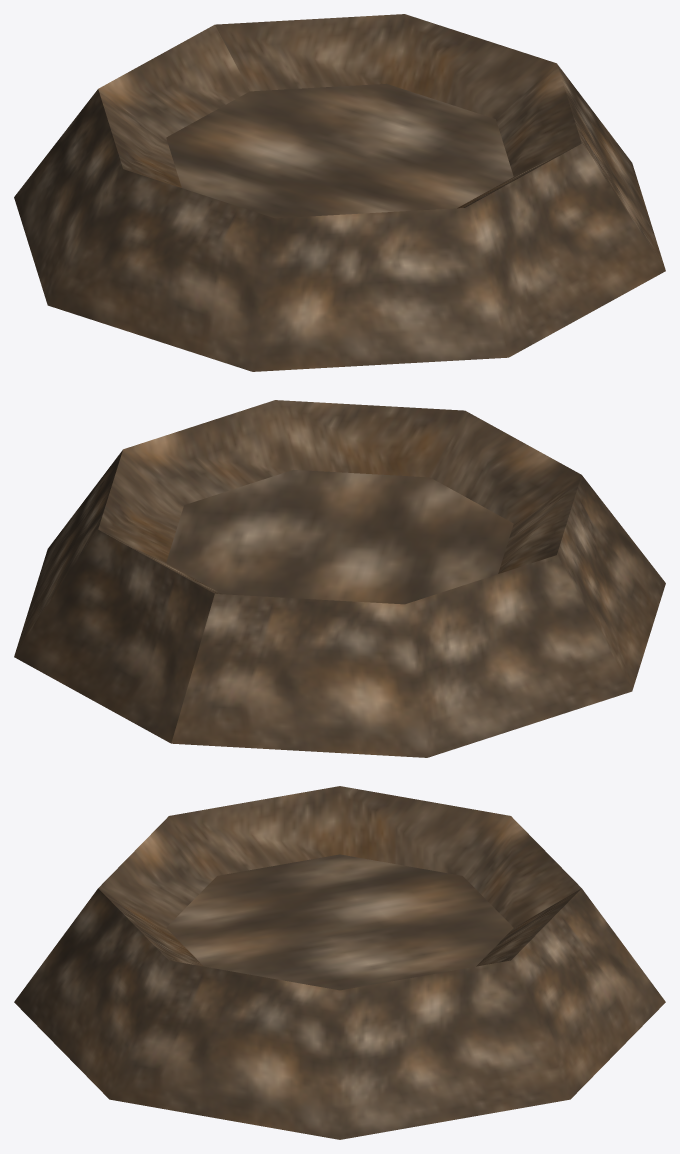
Rendered from mole_hole.fbx.
3 renders of one model, top to bottom at view 1: azimuth 30°, elevation 25°; view 2: azimuth 150°, elevation 25°; view 3: azimuth 270°, elevation 25°, orthographic. The views are drawn at different scales.
Visible parts, largest first — view 1: wall, bottom; view 2: wall, bottom; view 3: wall, bottom.
Part boxes in pixels (x1=…): wall: x1=14, y1=14, x2=665, y2=371; bottom: x1=166, y1=83, x2=513, y2=218; wall: x1=14, y1=400, x2=665, y2=757; bottom: x1=166, y1=469, x2=513, y2=604; wall: x1=14, y1=786, x2=665, y2=1139; bottom: x1=166, y1=854, x2=513, y2=990.
Size of the model in its own units: 3.06 by 0.5907 by 3.06.
1 material, 1 textured.
